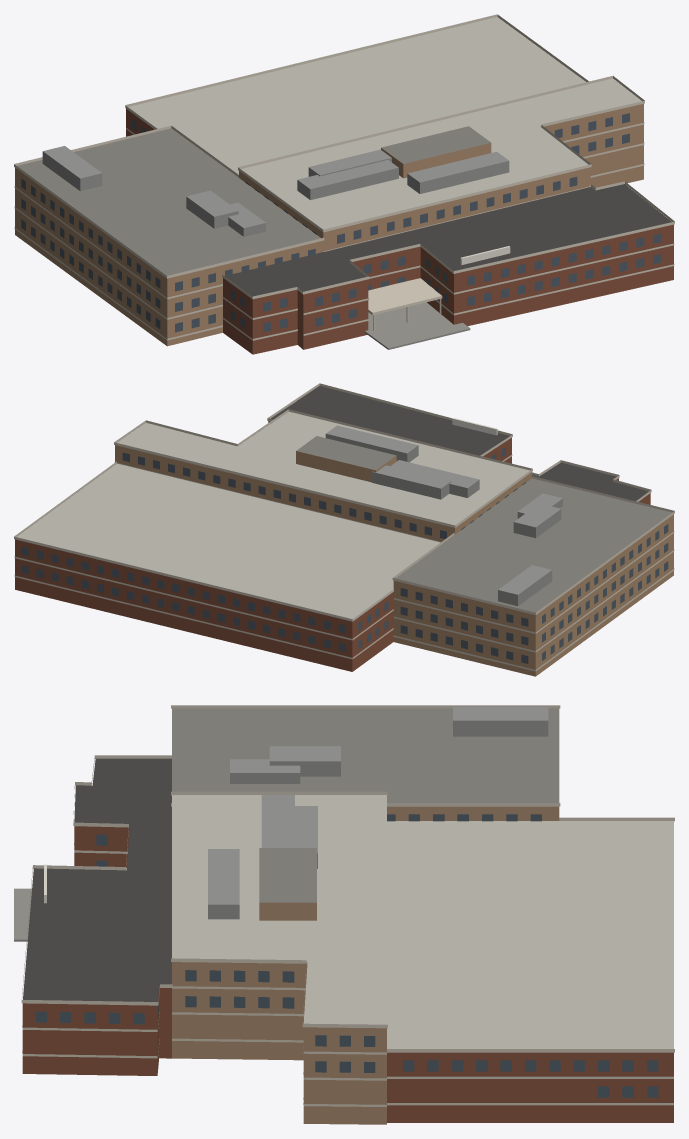
Rendered from arkansas-childrens-hospital-1985.glb.
The picture shows the model from 3 angles, top to bottom: view 1: azimuth 30°, elevation 25°; view 2: azimuth 150°, elevation 25°; view 3: azimuth 270°, elevation 25°; orthographic projection. The views are drawn at different scales.
Visible parts, largest first — view 1: arkansas_childrens_hospital_1985; view 2: arkansas_childrens_hospital_1985; view 3: arkansas_childrens_hospital_1985.
Part boxes in pixels (bbox=[...]): arkansas_childrens_hospital_1985: bbox=[14, 14, 674, 354]; arkansas_childrens_hospital_1985: bbox=[14, 383, 674, 676]; arkansas_childrens_hospital_1985: bbox=[14, 705, 674, 1124].
Bounding box in the file's own units: 109 × 17.8 × 92.12.
